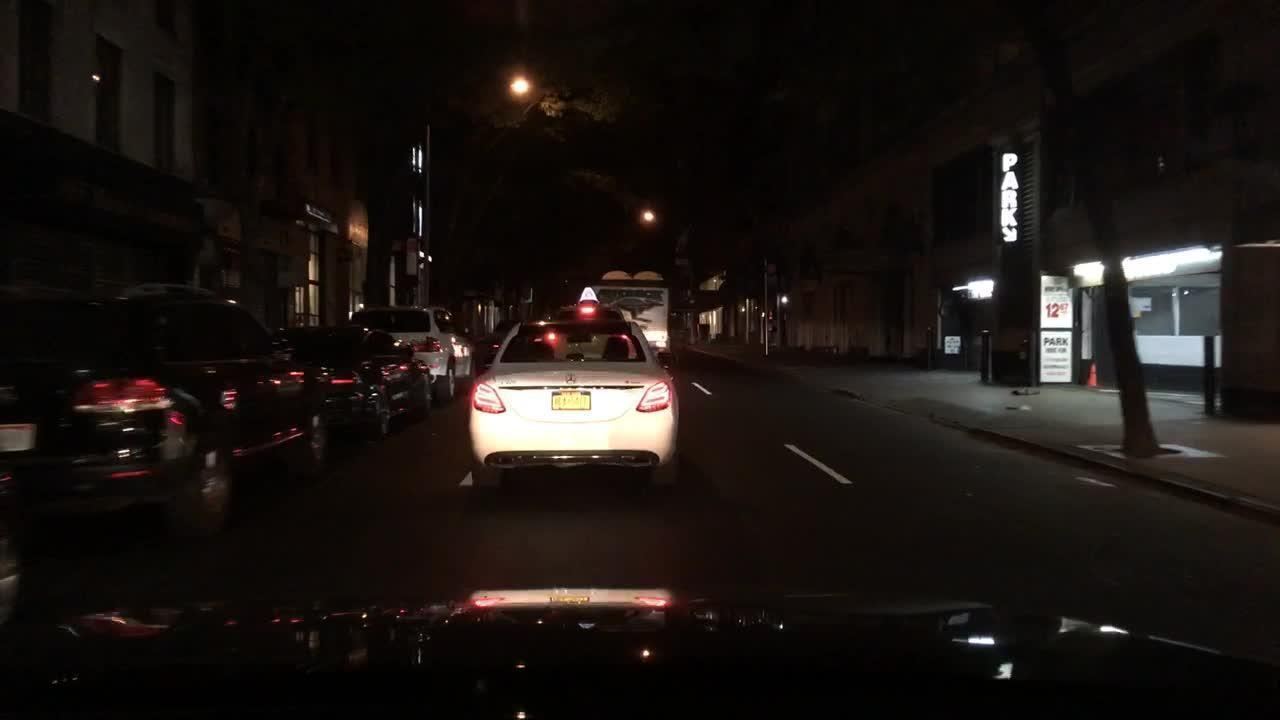Mercedes: (563, 370, 583, 387)
